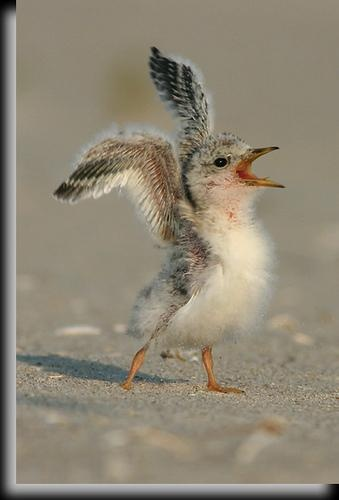bird: (63, 37, 294, 401)
